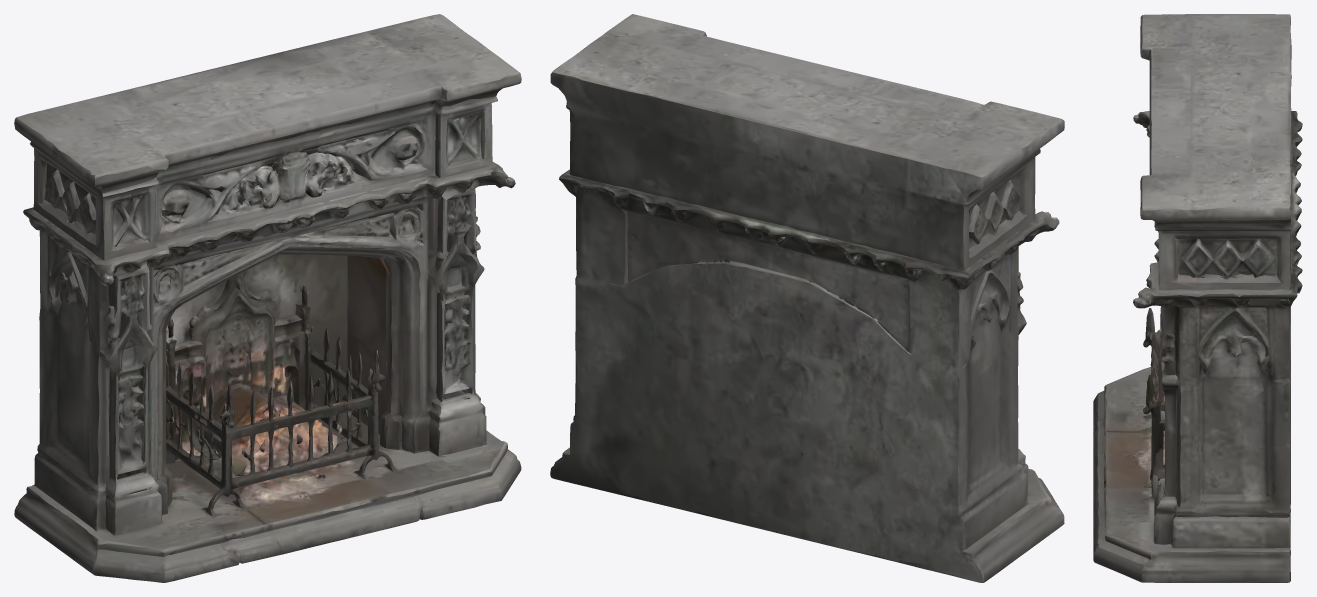
File: obj_study_fireplace.glb
The picture shows the model from 3 angles, left to right: view 1: azimuth 30°, elevation 25°; view 2: azimuth 150°, elevation 25°; view 3: azimuth 270°, elevation 25°; orthographic projection. The views are drawn at different scales.
Visible parts, largest first — view 1: geometry_0; view 2: geometry_0; view 3: geometry_0.
Boxes of the visible parts, bbox=[...] form: geometry_0: bbox=[14, 14, 521, 582]; geometry_0: bbox=[550, 14, 1064, 582]; geometry_0: bbox=[1093, 14, 1302, 582].
Bounding box in the file's own units: 1.8 × 1.61 × 0.815.
Materials: 1 (1 with a texture image).
